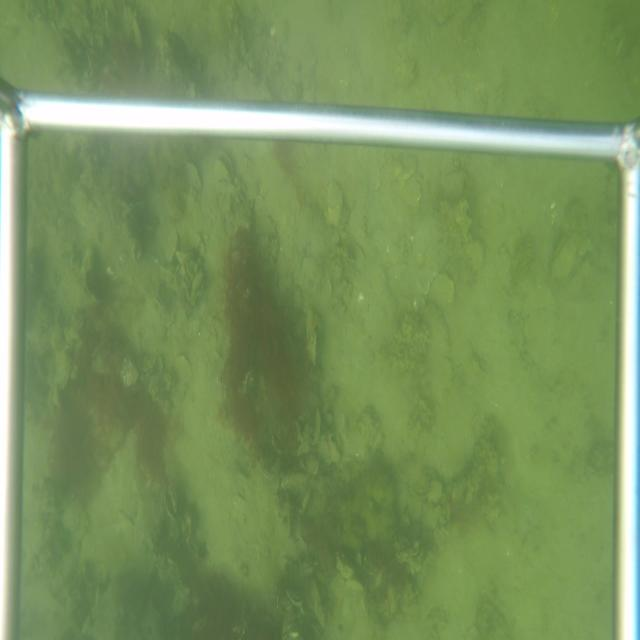Oyster-Indeterminate: (306, 310, 319, 371), (164, 228, 180, 266)
Oyster-Open: (214, 149, 234, 182), (86, 47, 96, 75)
